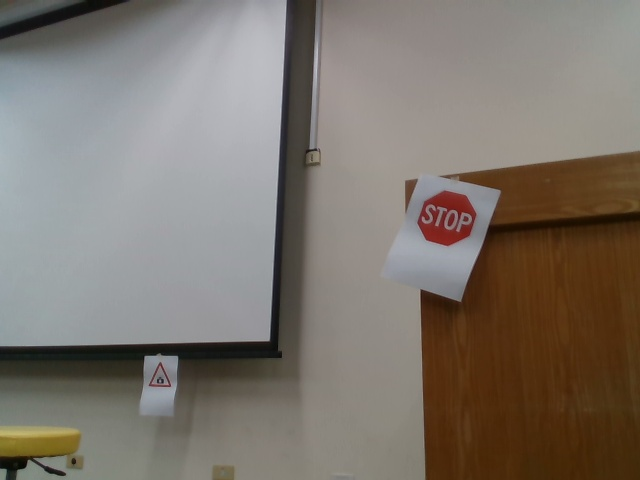stop: (416, 189, 477, 251)
